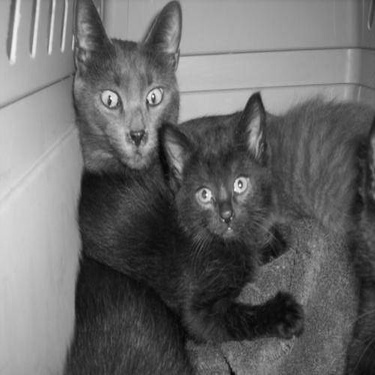cat: (63, 2, 252, 369), (155, 92, 369, 372)
